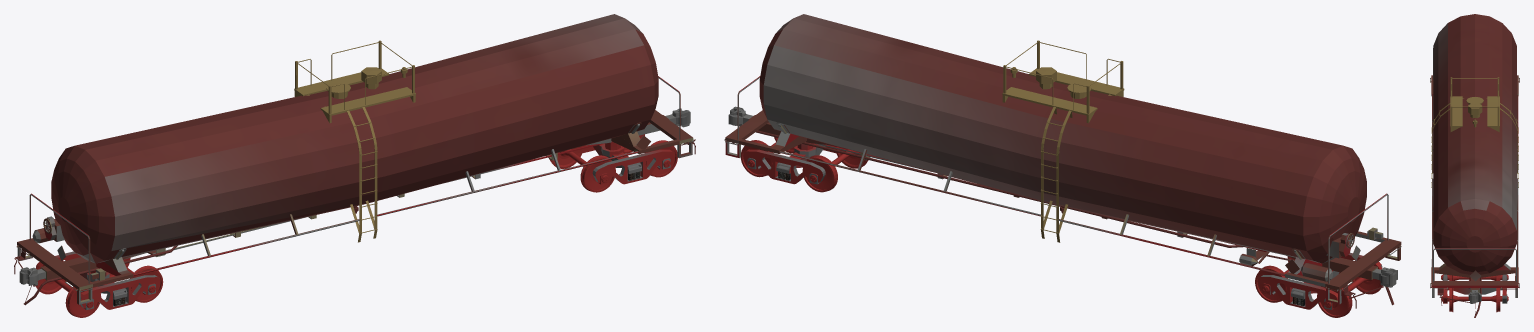
File: tank_us2.obj
3 renders of one model, left to right at view 1: azimuth 30°, elevation 25°; view 2: azimuth 150°, elevation 25°; view 3: azimuth 270°, elevation 25°, orthographic. The views are drawn at different scales.
Parts seen in each view (by area): view 1: SHELL_MAIN, FRAME_END_PLA~01, CATWALK_MAIN.001, BOGEY_REAR_Bogie2.001, BOGEY_FRONT_Bogie2, BOGEY_REAR_WHEEL_1_Cylinder.002, BOGEY_FRONT_WHEEL_2_Cylinder.004, BOGEY_FRONT_WHEEL_1_Cylinder.001, Airbrakes_COUPLER, BOGEY_REAR_WHEEL_2_Cylinder.006; view 2: SHELL_MAIN, FRAME_END_PLA~01, CATWALK_MAIN.001, BOGEY_REAR_Bogie2.001, BOGEY_FRONT_Bogie2, Airbrakes_COUPLER, BOGEY_REAR_WHEEL_1_Cylinder.002, BOGEY_FRONT_WHEEL_2_Cylinder.004, BOGEY_FRONT_WHEEL_1_Cylinder.001, BOGEY_REAR_WHEEL_2_Cylinder.006; view 3: SHELL_MAIN, FRAME_END_PLA~01, CATWALK_MAIN.001, BOGEY_REAR_Bogie2.001, BOGEY_REAR_WHEEL_2_Cylinder.006, BOGEY_REAR_WHEEL_1_Cylinder.002, Airbrakes_COUPLER, FRONT_COUPLER.002_Cube.001.
Boxes of the visible parts, left/top/right/bottom form: SHELL_MAIN: left=51, top=14, right=658, bottom=263; FRAME_END_PLA~01: left=16, top=76, right=693, bottom=304; CATWALK_MAIN.001: left=294, top=40, right=415, bottom=242; BOGEY_REAR_Bogie2.001: left=582, top=141, right=675, bottom=184; BOGEY_FRONT_Bogie2: left=36, top=251, right=160, bottom=309; BOGEY_REAR_WHEEL_1_Cylinder.002: left=549, top=146, right=615, bottom=192; BOGEY_FRONT_WHEEL_2_Cylinder.004: left=35, top=258, right=101, bottom=317; BOGEY_FRONT_WHEEL_1_Cylinder.001: left=109, top=258, right=163, bottom=302; Airbrakes_COUPLER: left=14, top=139, right=695, bottom=305; BOGEY_REAR_WHEEL_2_Cylinder.006: left=624, top=134, right=677, bottom=177; SHELL_MAIN: left=759, top=14, right=1366, bottom=263; FRAME_END_PLA~01: left=724, top=76, right=1401, bottom=304; CATWALK_MAIN.001: left=1002, top=40, right=1124, bottom=242; BOGEY_REAR_Bogie2.001: left=743, top=141, right=836, bottom=184; BOGEY_FRONT_Bogie2: left=1257, top=252, right=1382, bottom=309; Airbrakes_COUPLER: left=732, top=126, right=1393, bottom=308; BOGEY_REAR_WHEEL_1_Cylinder.002: left=802, top=146, right=868, bottom=192; BOGEY_FRONT_WHEEL_2_Cylinder.004: left=1317, top=258, right=1382, bottom=317; BOGEY_FRONT_WHEEL_1_Cylinder.001: left=1255, top=256, right=1294, bottom=302; BOGEY_REAR_WHEEL_2_Cylinder.006: left=740, top=137, right=794, bottom=177; SHELL_MAIN: left=1433, top=14, right=1516, bottom=274; FRAME_END_PLA~01: left=1430, top=48, right=1519, bottom=297; CATWALK_MAIN.001: left=1431, top=77, right=1518, bottom=187; BOGEY_REAR_Bogie2.001: left=1443, top=274, right=1507, bottom=303; BOGEY_REAR_WHEEL_2_Cylinder.006: left=1441, top=288, right=1508, bottom=312; BOGEY_REAR_WHEEL_1_Cylinder.002: left=1441, top=275, right=1508, bottom=280; Airbrakes_COUPLER: left=1437, top=277, right=1481, bottom=317; FRONT_COUPLER.002_Cube.001: left=1468, top=290, right=1481, bottom=303.
Size of the model in its own units: 17.19 by 4.23 by 2.86.
